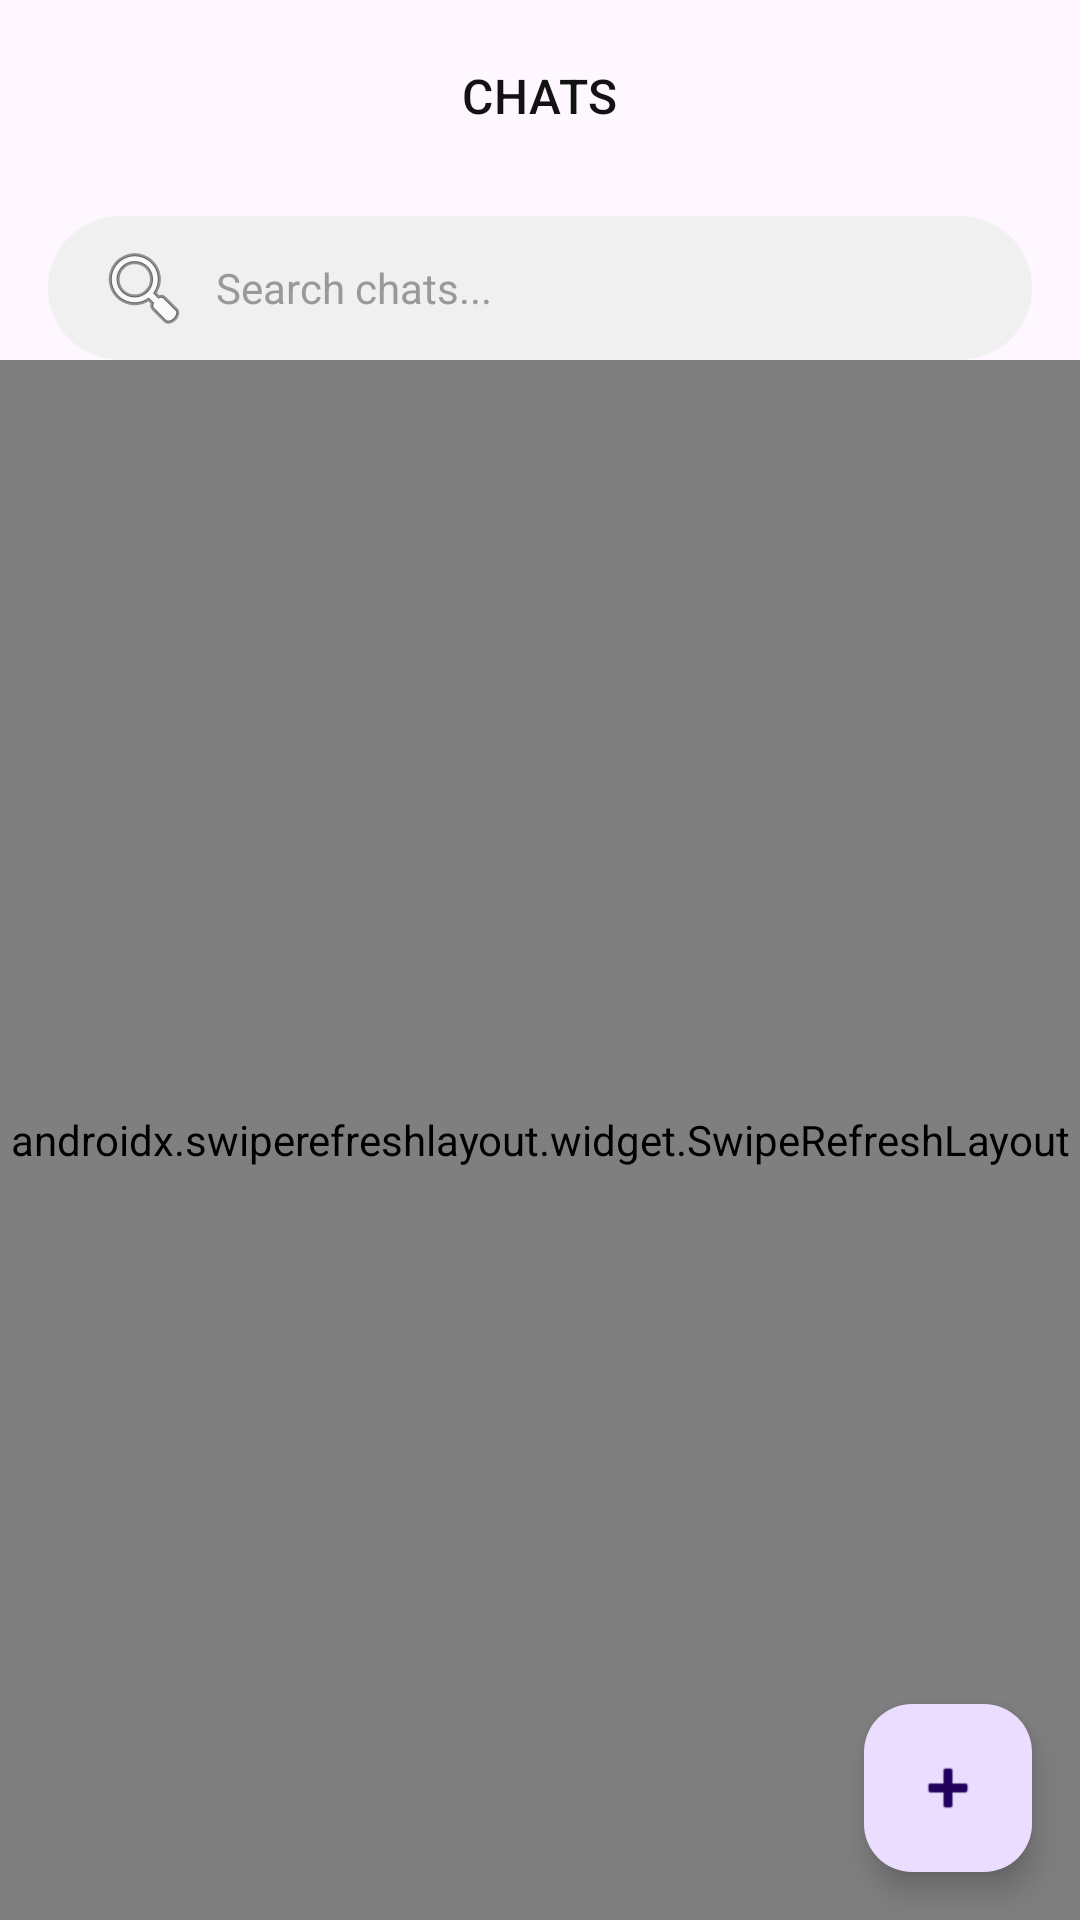

Icon click points for this 1080 x 1920 phone screenshot, format (x=x, y=y):
Start a new chat: (x=948, y=1788)
